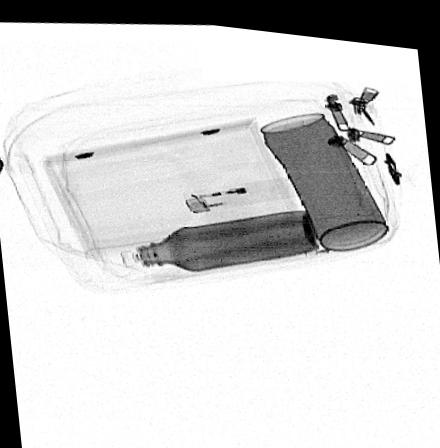Lighter: (182, 170, 297, 209)
